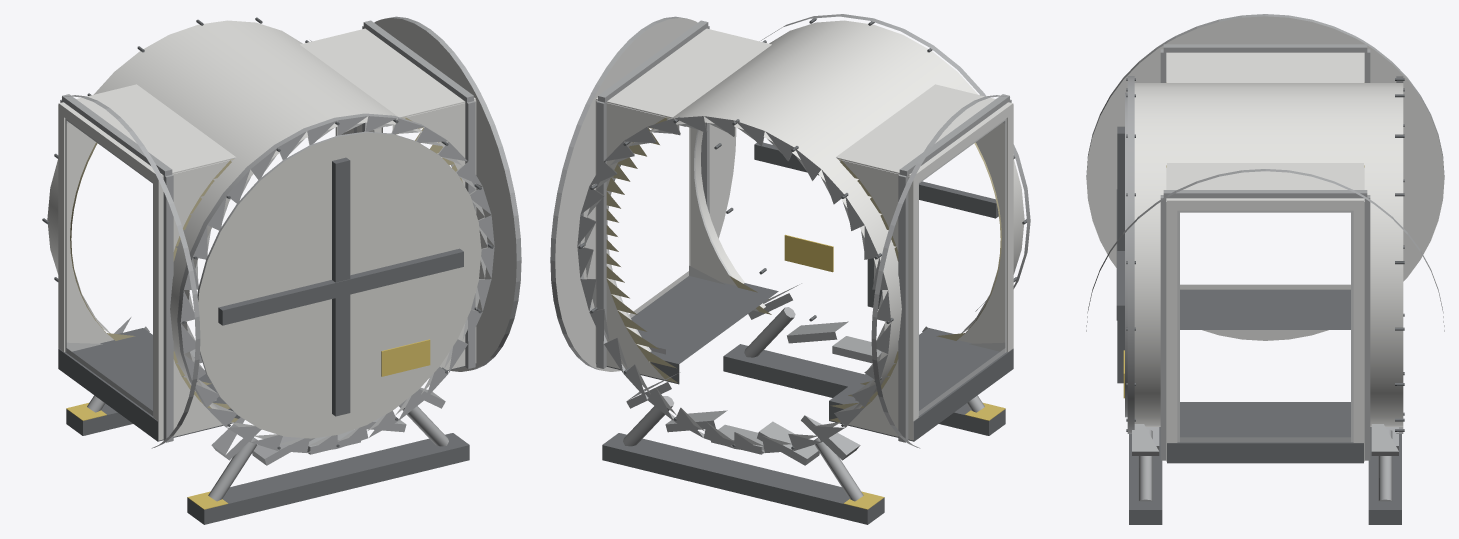
The model's file is habSegJLRf_steel.glb.
3 views of the same model, side by side, from view 1: azimuth 30°, elevation 25°; view 2: azimuth 150°, elevation 25°; view 3: azimuth 270°, elevation 25° (orthographic).
Parts seen in each view (by area): view 1: habSegJLRf_steel; view 2: habSegJLRf_steel; view 3: habSegJLRf_steel.
Part boxes in pixels (x1,y1,x2,y2): habSegJLRf_steel: [42, 16, 521, 524]; habSegJLRf_steel: [550, 14, 1030, 524]; habSegJLRf_steel: [1086, 14, 1444, 524].
Size of the model in its own units: 2.7 by 2.95 by 2.6.
